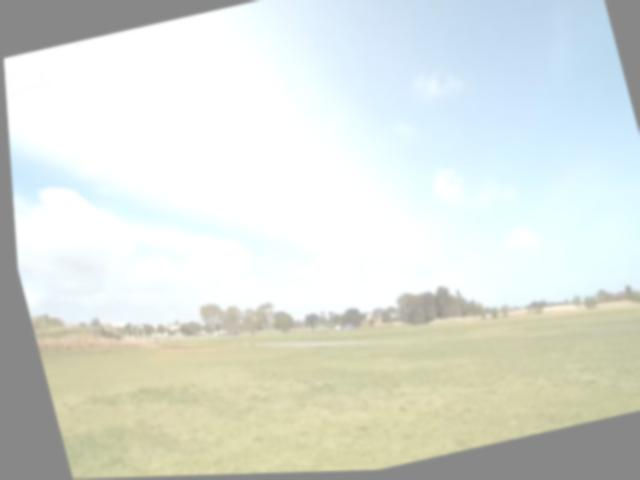uav: (164, 155, 190, 184)
